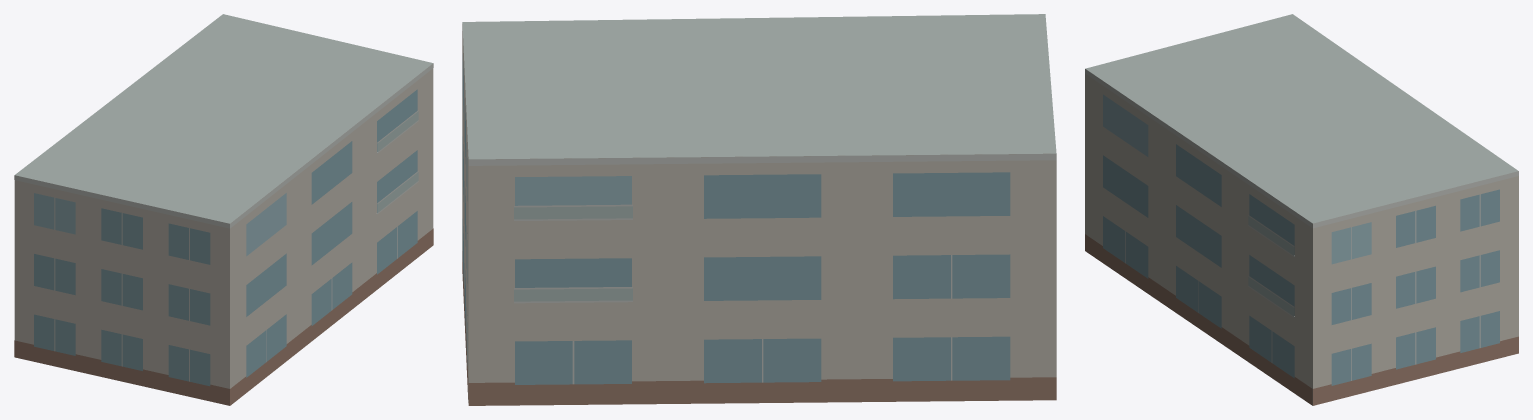
Rendered from survey-upis-32621530.glb.
3 renders of one model, left to right at view 1: azimuth 30°, elevation 25°; view 2: azimuth 150°, elevation 25°; view 3: azimuth 270°, elevation 25°, orthographic. The views are drawn at different scales.
Parts seen in each view (by area): view 1: survey-upis-32621530.tmp; view 2: survey-upis-32621530.tmp; view 3: survey-upis-32621530.tmp.
Part boxes in pixels (bbox=[...]): survey-upis-32621530.tmp: bbox=[14, 14, 433, 405]; survey-upis-32621530.tmp: bbox=[462, 14, 1056, 405]; survey-upis-32621530.tmp: bbox=[1085, 14, 1518, 405].
Bounding box in the file's own units: 22.56 × 9.15 × 19.74.
